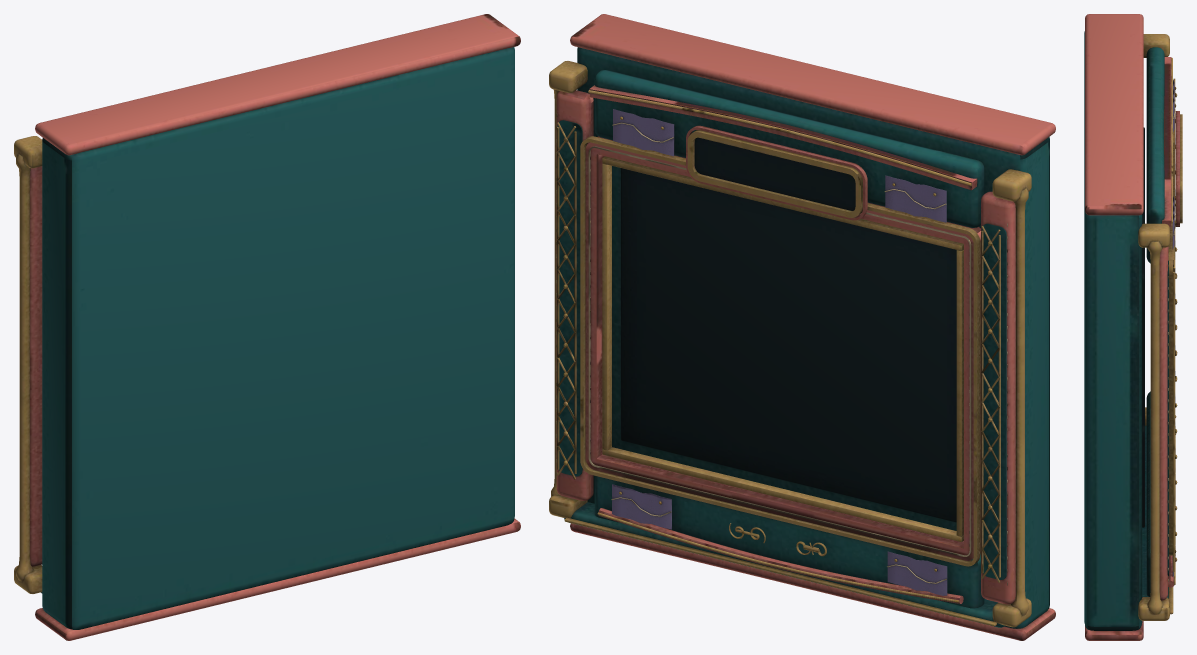
3 views of the same model, side by side, from view 1: azimuth 30°, elevation 25°; view 2: azimuth 150°, elevation 25°; view 3: azimuth 270°, elevation 25° (orthographic). The views are drawn at different scales.
Visible parts, largest first — view 1: Teal_woven_canvas, Coral_woven_binding, Satin_travel_brass; view 2: Uniform_dark_enamel, Teal_woven_canvas, Coral_woven_binding, Satin_travel_brass, Matte_violet_route_paper, Flax_thread; view 3: Teal_woven_canvas, Coral_woven_binding, Satin_travel_brass, Uniform_dark_enamel, Matte_violet_route_paper, Flax_thread.
Boxes of the visible parts, x1=… form: Teal_woven_canvas: x1=41, y1=47, x2=514, y2=629; Coral_woven_binding: x1=30, y1=14, x2=520, y2=640; Satin_travel_brass: x1=14, y1=136, x2=42, y2=593; Uniform_dark_enamel: x1=621, y1=137, x2=956, y2=522; Teal_woven_canvas: x1=557, y1=47, x2=1049, y2=628; Coral_woven_binding: x1=556, y1=14, x2=1055, y2=640; Satin_travel_brass: x1=549, y1=61, x2=1031, y2=627; Matte_violet_route_paper: x1=612, y1=109, x2=947, y2=595; Flax_thread: x1=556, y1=114, x2=1007, y2=585; Teal_woven_canvas: x1=1084, y1=31, x2=1168, y2=630; Coral_woven_binding: x1=1085, y1=14, x2=1179, y2=640; Satin_travel_brass: x1=1138, y1=34, x2=1182, y2=620; Uniform_dark_enamel: x1=1142, y1=127, x2=1144, y2=527; Matte_violet_route_paper: x1=1172, y1=80, x2=1174, y2=576; Flax_thread: x1=1168, y1=95, x2=1175, y2=581.
Size of the model in its own units: 9.32 by 9.3 by 1.9.
Materials: 6 (6 with a texture image).
